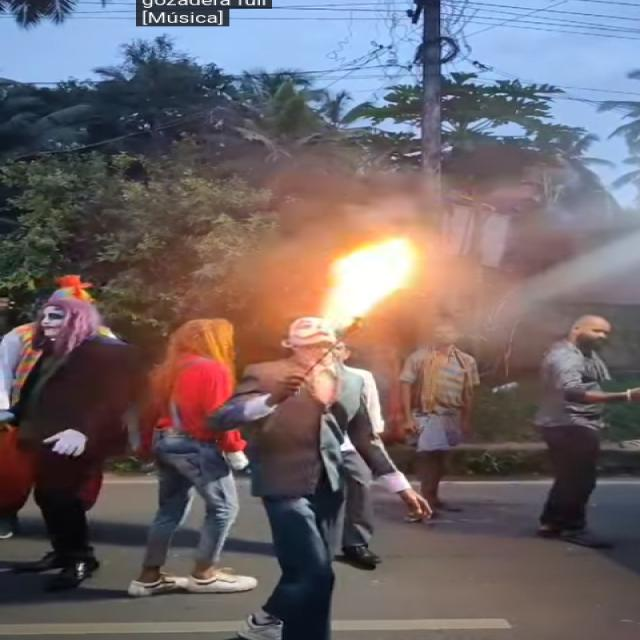fire: (319, 236, 420, 333)
